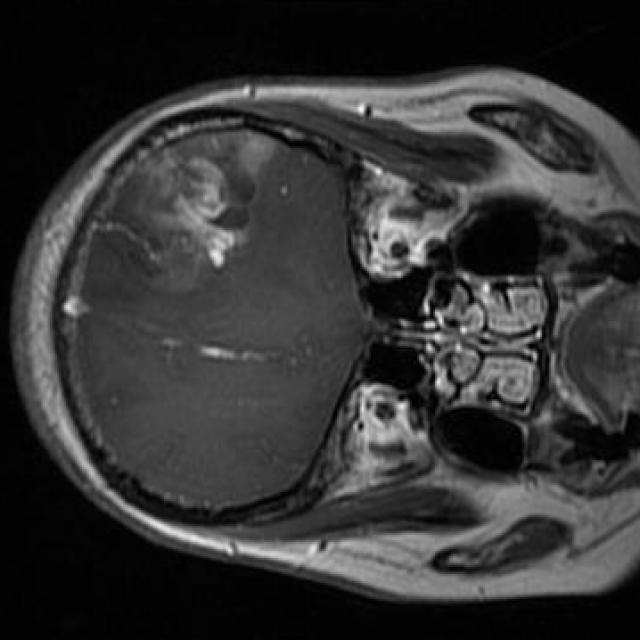glioma: (105, 132, 276, 294)
